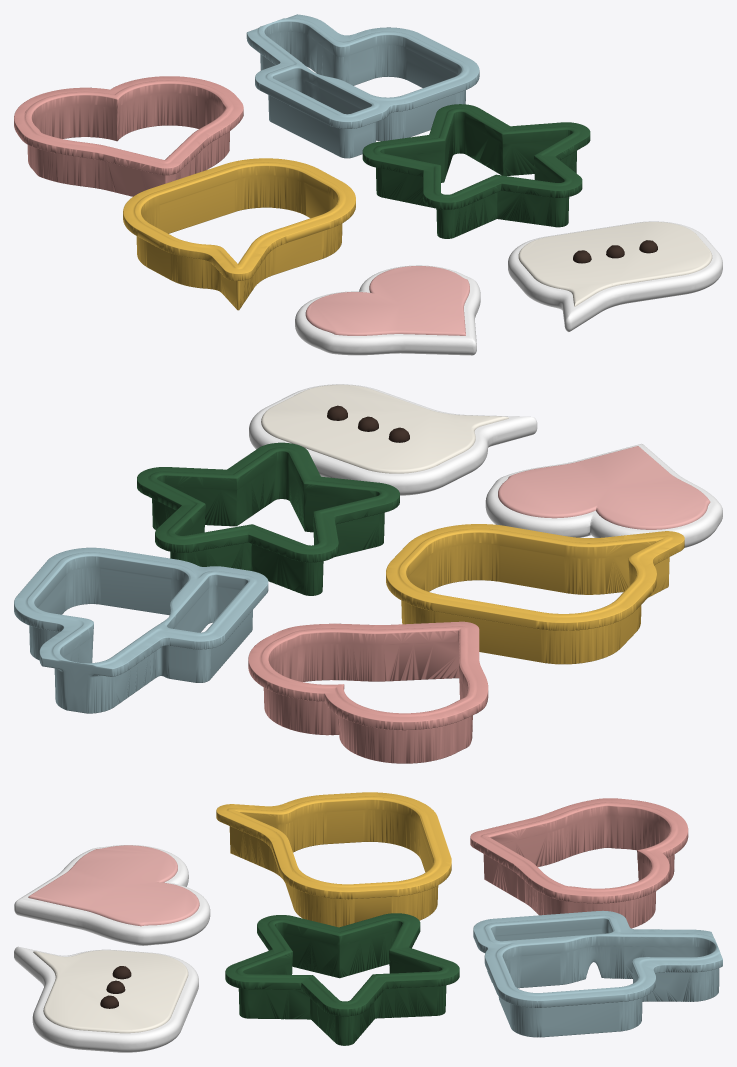
Rendered from reactions.glb.
The picture shows the model from 3 angles, top to bottom: view 1: azimuth 30°, elevation 25°; view 2: azimuth 150°, elevation 25°; view 3: azimuth 270°, elevation 25°; orthographic projection. The views are drawn at different scales.
Parts seen in each view (by area): view 1: cutter-love, icing-love, cookie-love, dots-comment; view 2: cutter-love, icing-love, cookie-love, dots-comment; view 3: cutter-love, icing-love, cookie-love, dots-comment.
Boxes of the visible parts, x1,y1,x2,y2 form: cutter-love: (14,14,590,310); icing-love: (305,222,712,335); cookie-love: (295,221,722,355); dots-comment: (573,240,657,263); cutter-love: (14,442,684,763); icing-love: (261,384,710,529); cookie-love: (249,384,722,547); dots-comment: (327,405,409,442); cutter-love: (216,792,722,1045); icing-love: (28,845,199,1033); cookie-love: (14,845,210,1052); dots-comment: (100,966,131,1008).
Bounding box in the file's own units: 0.176 × 0.0163 × 0.2394.
Materials: 4 (4 with a texture image).
